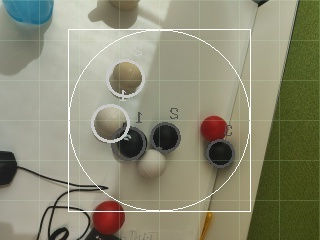Pelota blanca: (0, 3, 47, 76), (105, 59, 145, 100), (90, 103, 131, 142), (88, 0, 141, 30), (138, 149, 167, 178)
Pelota negra: (1, 0, 55, 27), (115, 127, 149, 160), (150, 121, 181, 154), (206, 139, 235, 168), (0, 149, 19, 189), (252, 0, 269, 6)
Pelota roja: (91, 209, 127, 234), (199, 113, 229, 142), (95, 199, 125, 213)
